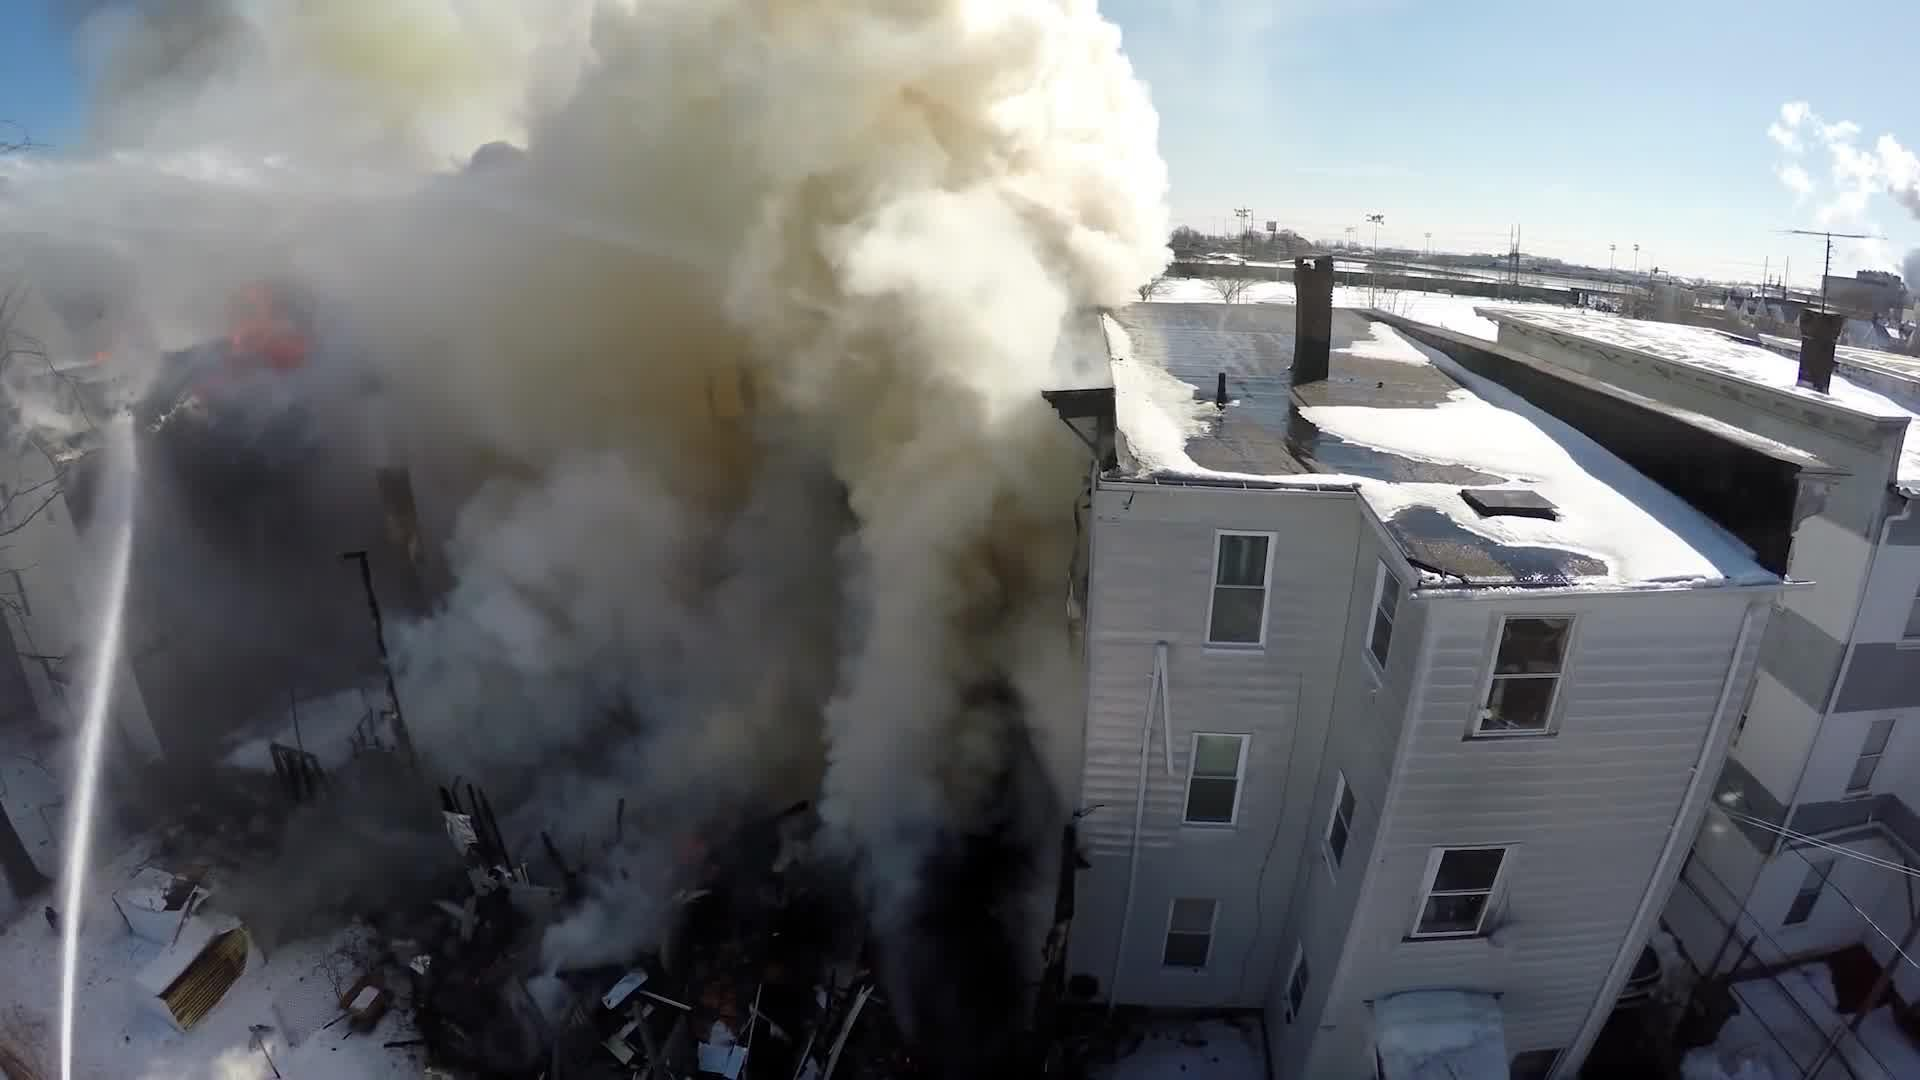smoke: (310, 0, 1085, 903)
